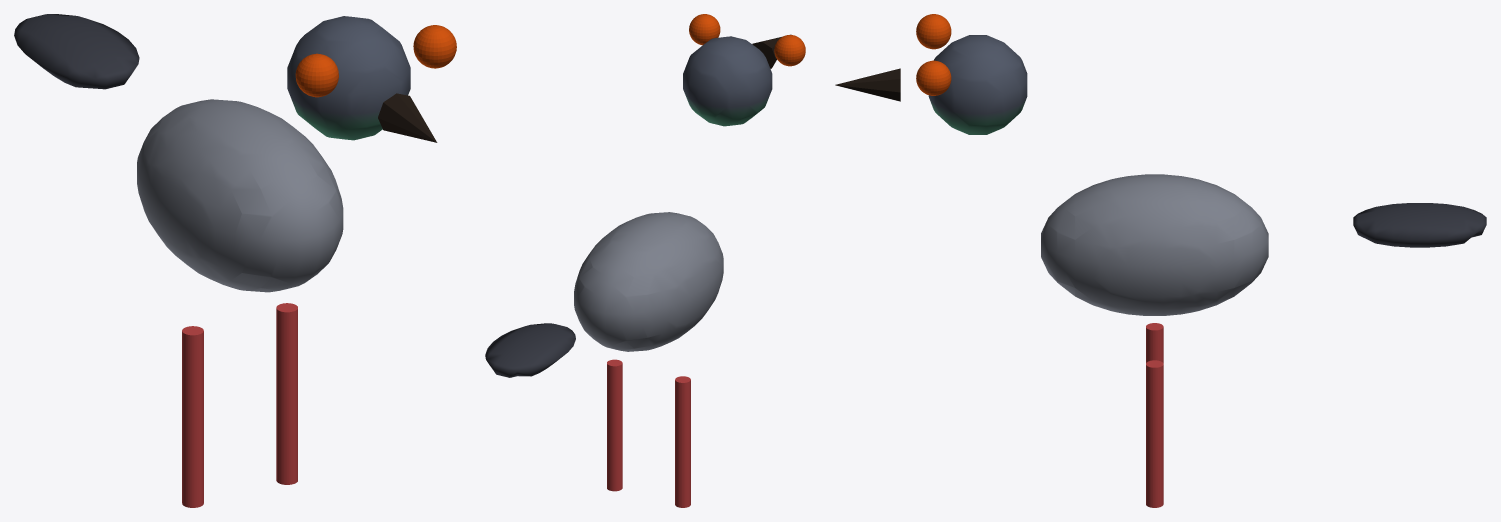
File: pigeon.glb
3 views of the same model, side by side, from view 1: azimuth 30°, elevation 25°; view 2: azimuth 150°, elevation 25°; view 3: azimuth 270°, elevation 25° (orthographic). The views are drawn at different scales.
Parts seen in each view (by area): view 1: pigeon.001; view 2: pigeon.001; view 3: pigeon.001.
Part boxes in pixels (<box>): pigeon.001: <box>14,14,456,507</box>; pigeon.001: <box>485,14,805,507</box>; pigeon.001: <box>835,14,1486,507</box>.
Size of the model in its own units: 0.066 by 0.223 by 0.2952.
